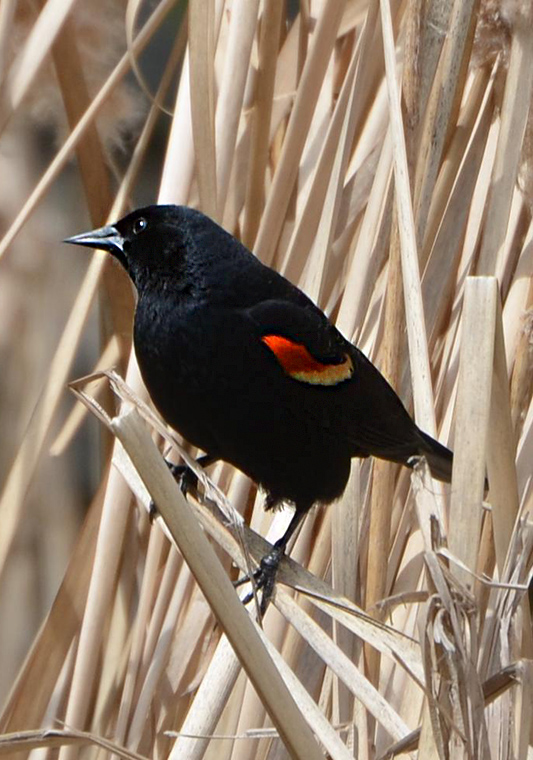bird: (98, 205, 410, 517)
